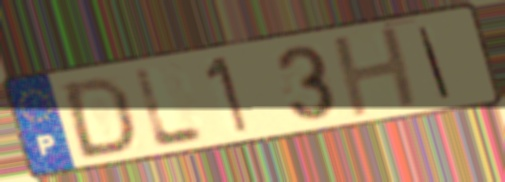1: (201, 53, 252, 137)
3: (273, 43, 339, 124)
D: (61, 74, 138, 162)
H: (327, 22, 424, 121)
I: (414, 24, 455, 101)
L: (131, 65, 210, 151)
